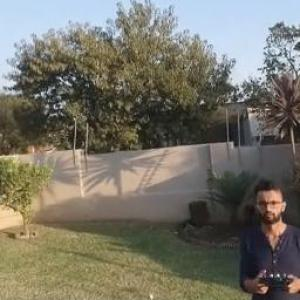follow: (234, 174, 300, 298)
